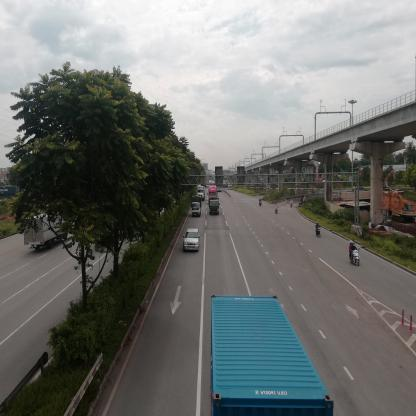car: (185, 227, 200, 251)
container: (212, 296, 340, 416), (198, 185, 204, 194)
motorbike: (349, 242, 362, 268), (316, 223, 323, 236), (276, 205, 280, 218), (258, 197, 263, 207), (290, 202, 294, 208)
truck: (211, 196, 220, 216), (193, 197, 202, 216)
